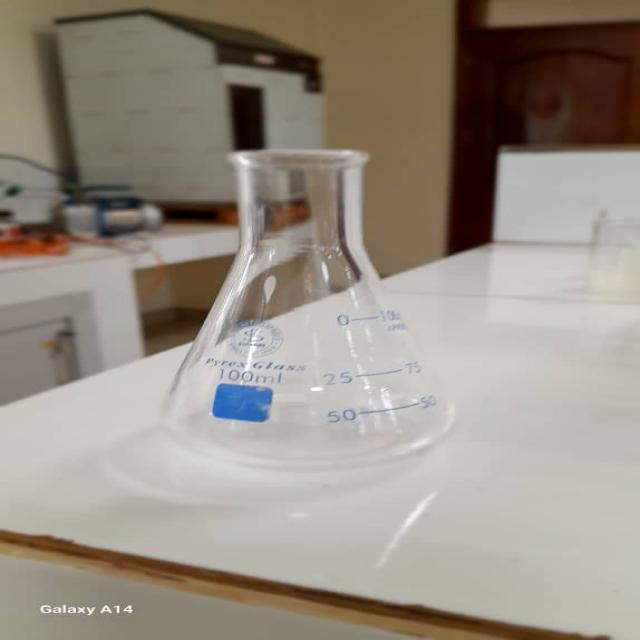Conical Flask: (149, 139, 465, 466)
